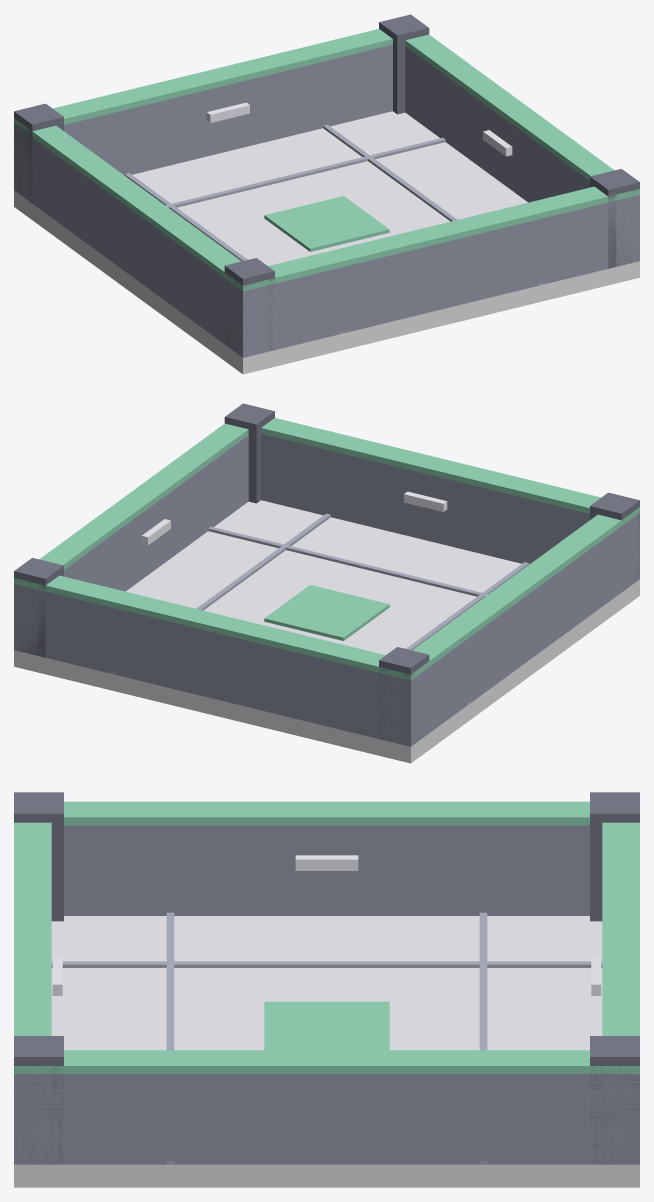
Rendered from walkway-1x1-square.glb.
3 views of the same model, one above another, from view 1: azimuth 30°, elevation 25°; view 2: azimuth 150°, elevation 25°; view 3: azimuth 270°, elevation 25° (orthographic). The views are drawn at different scales.
Parts seen in each view (by area): view 1: walkway-1x1-square; view 2: walkway-1x1-square; view 3: walkway-1x1-square.
Part boxes in pixels (x1,y1,x2,y2): walkway-1x1-square: (14,14,639,374); walkway-1x1-square: (14,403,639,763); walkway-1x1-square: (14,792,639,1187).
Bounding box in the file's own units: 1 × 0.23 × 1.
Materials: 1 (1 with a texture image).
